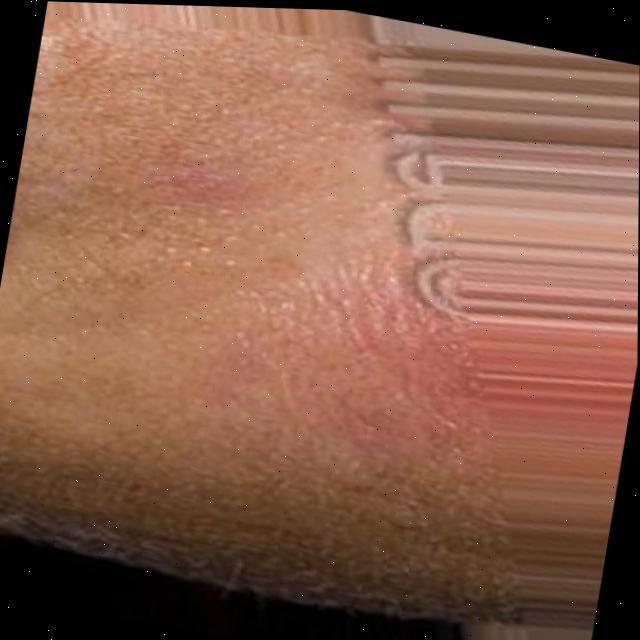Rosacea: (221, 231, 490, 460)
